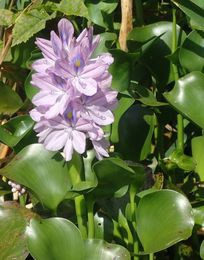water_hyacinth: (0, 24, 204, 259)
